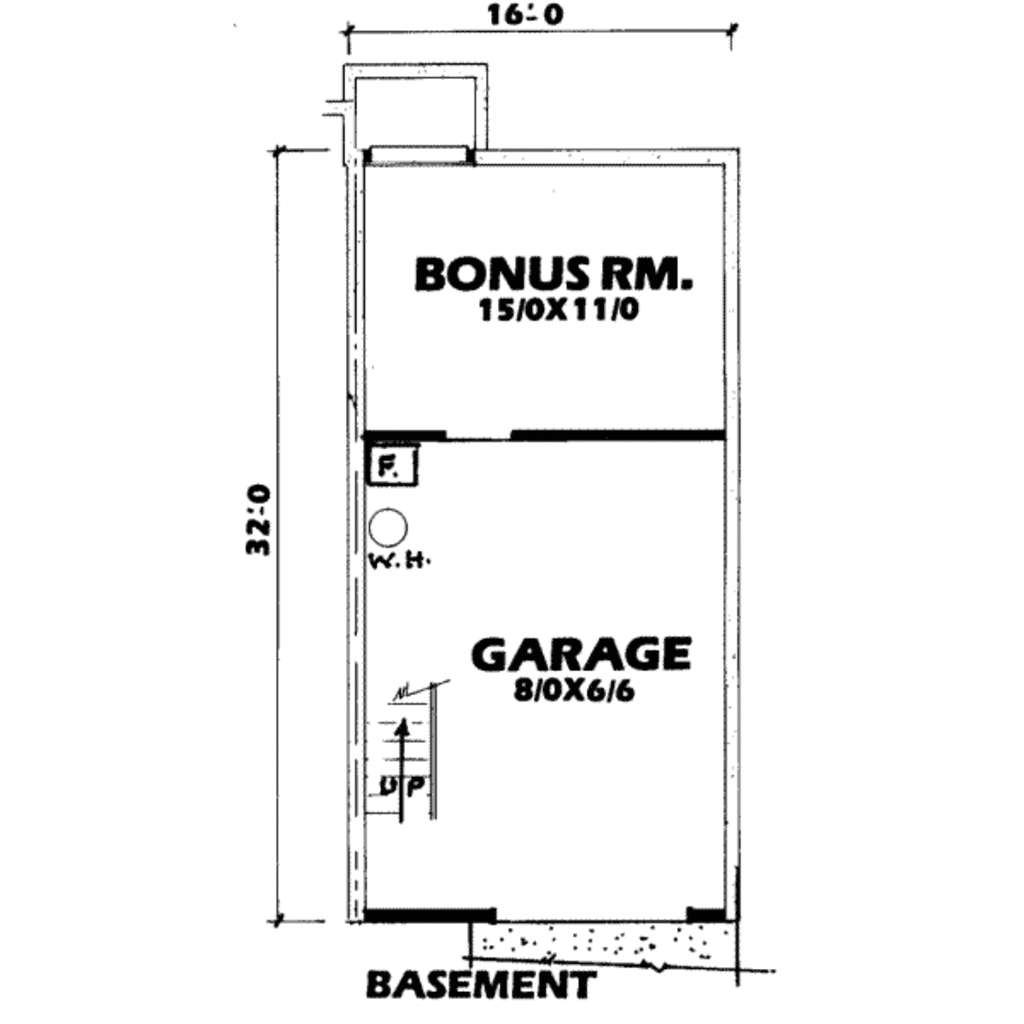stairs: (359, 677, 456, 827)
window: (363, 135, 481, 171)
